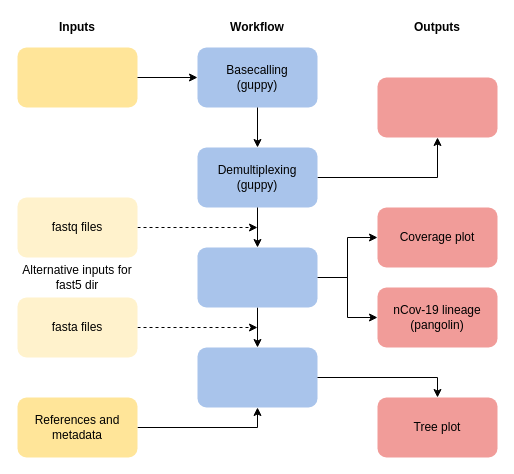
Some shapes in this 514 by 474 pixel diagram are drawn without their labels. The shapes that lost their labels are listed below. From the top down, each one's box as (x1, y1, x2, y2) in pixels, then its label:
(17, 47, 137, 107): fast5 dir
(377, 77, 497, 137): fastq.gz files
(197, 247, 317, 307): Genome reconstruction (ARTIC - medaka)
(197, 347, 317, 407): Time tree construction (augur)
